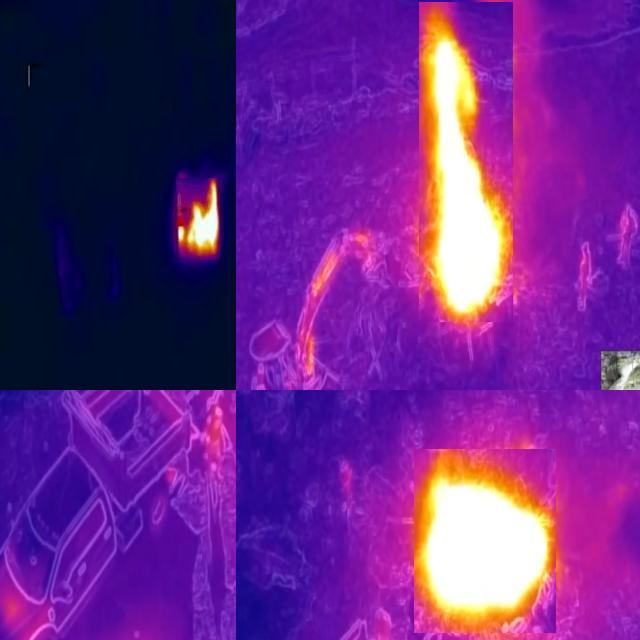fire: (420, 4, 514, 324), (415, 450, 557, 634), (177, 179, 221, 261)
